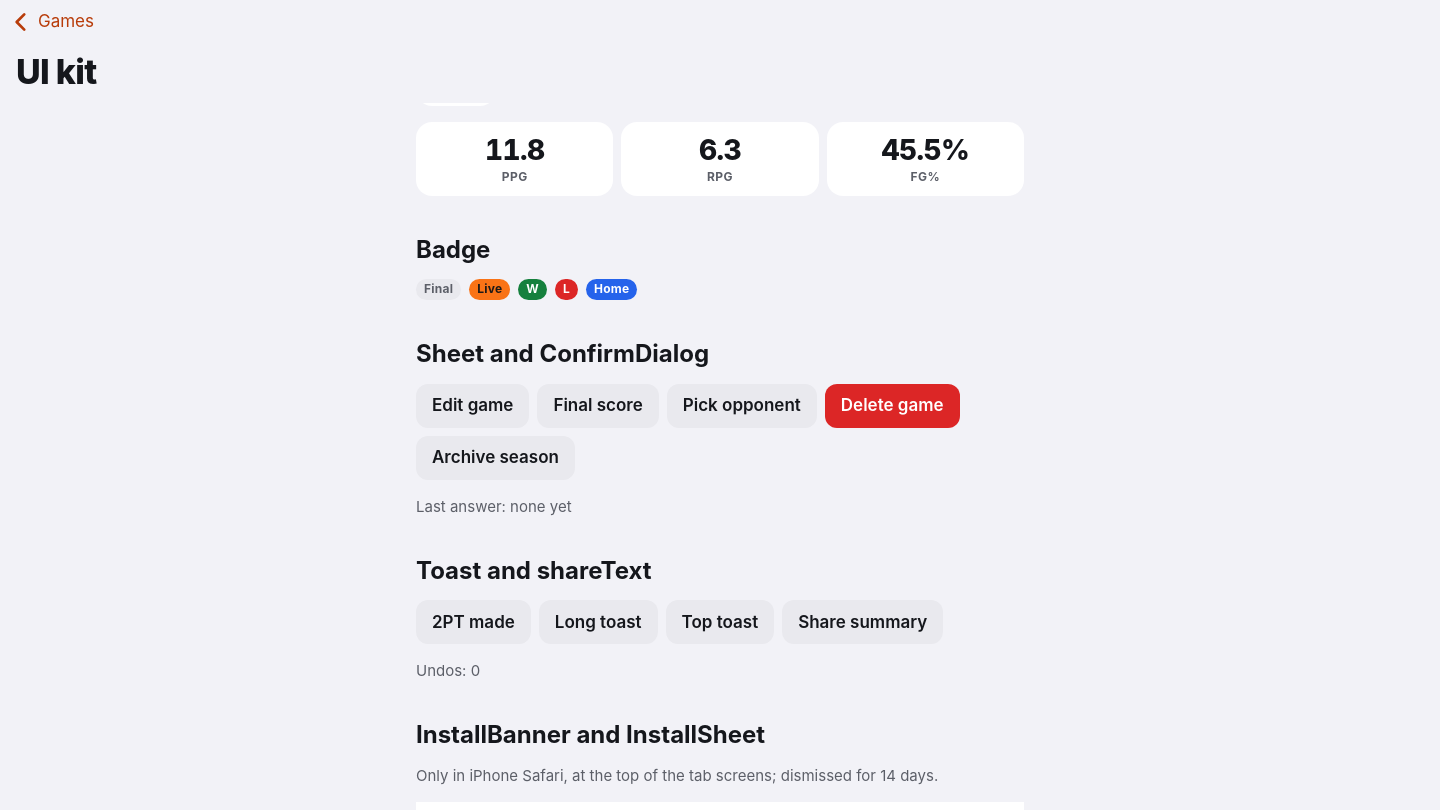
DevUiScreen › opens a sheet whose Save closes it and shows a toast
(page scrolled)
Expected: the heading "UI kit" is shown, [16,52,97,91]
Click the button "Edit game" at (473, 406), box [416,384,529,428]
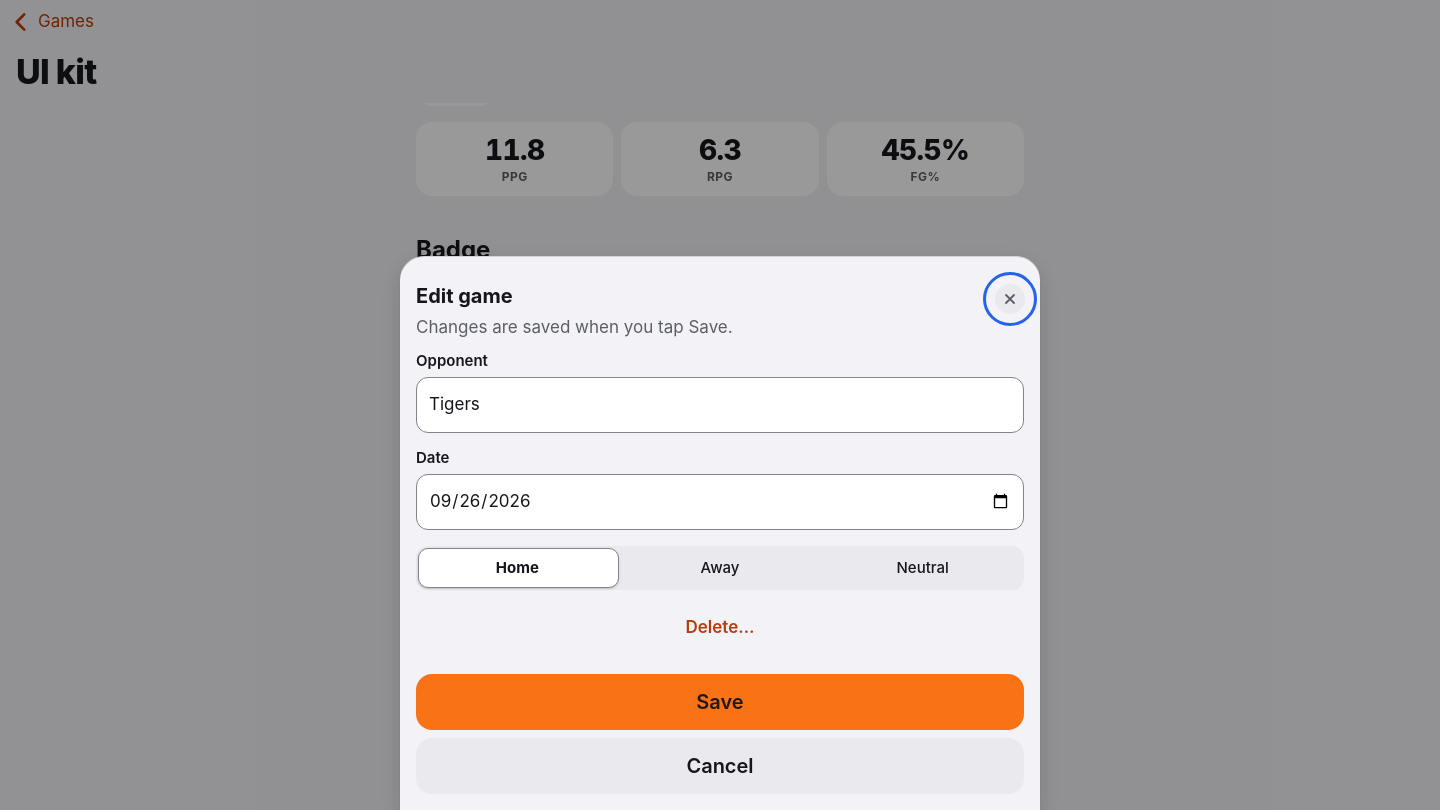
Click the button "Save" at (720, 702), box [416,674,1024,730]
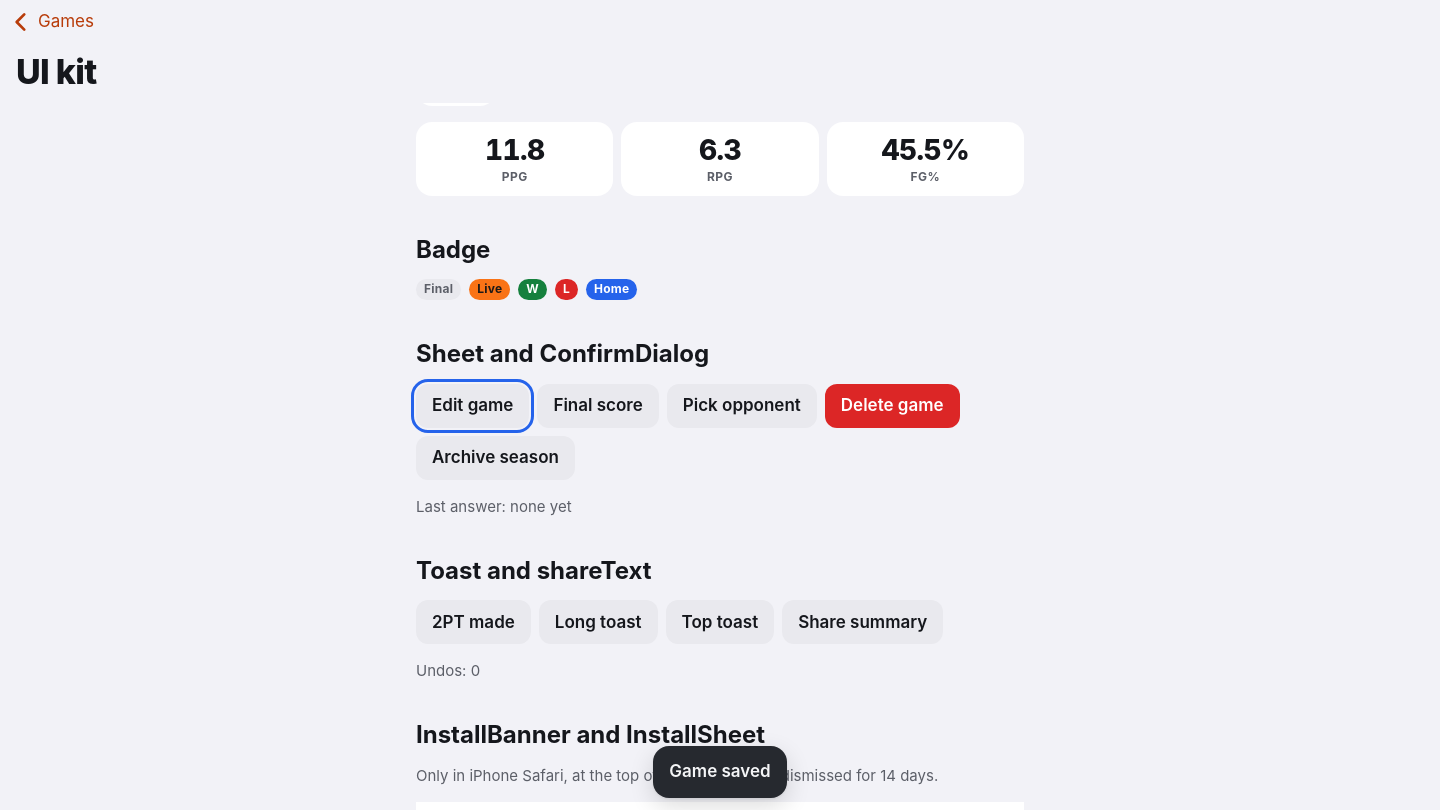
Expected: the dialog is gone
Expected: the message named "Notifications" reads "Game saved", [669,761,771,781]
